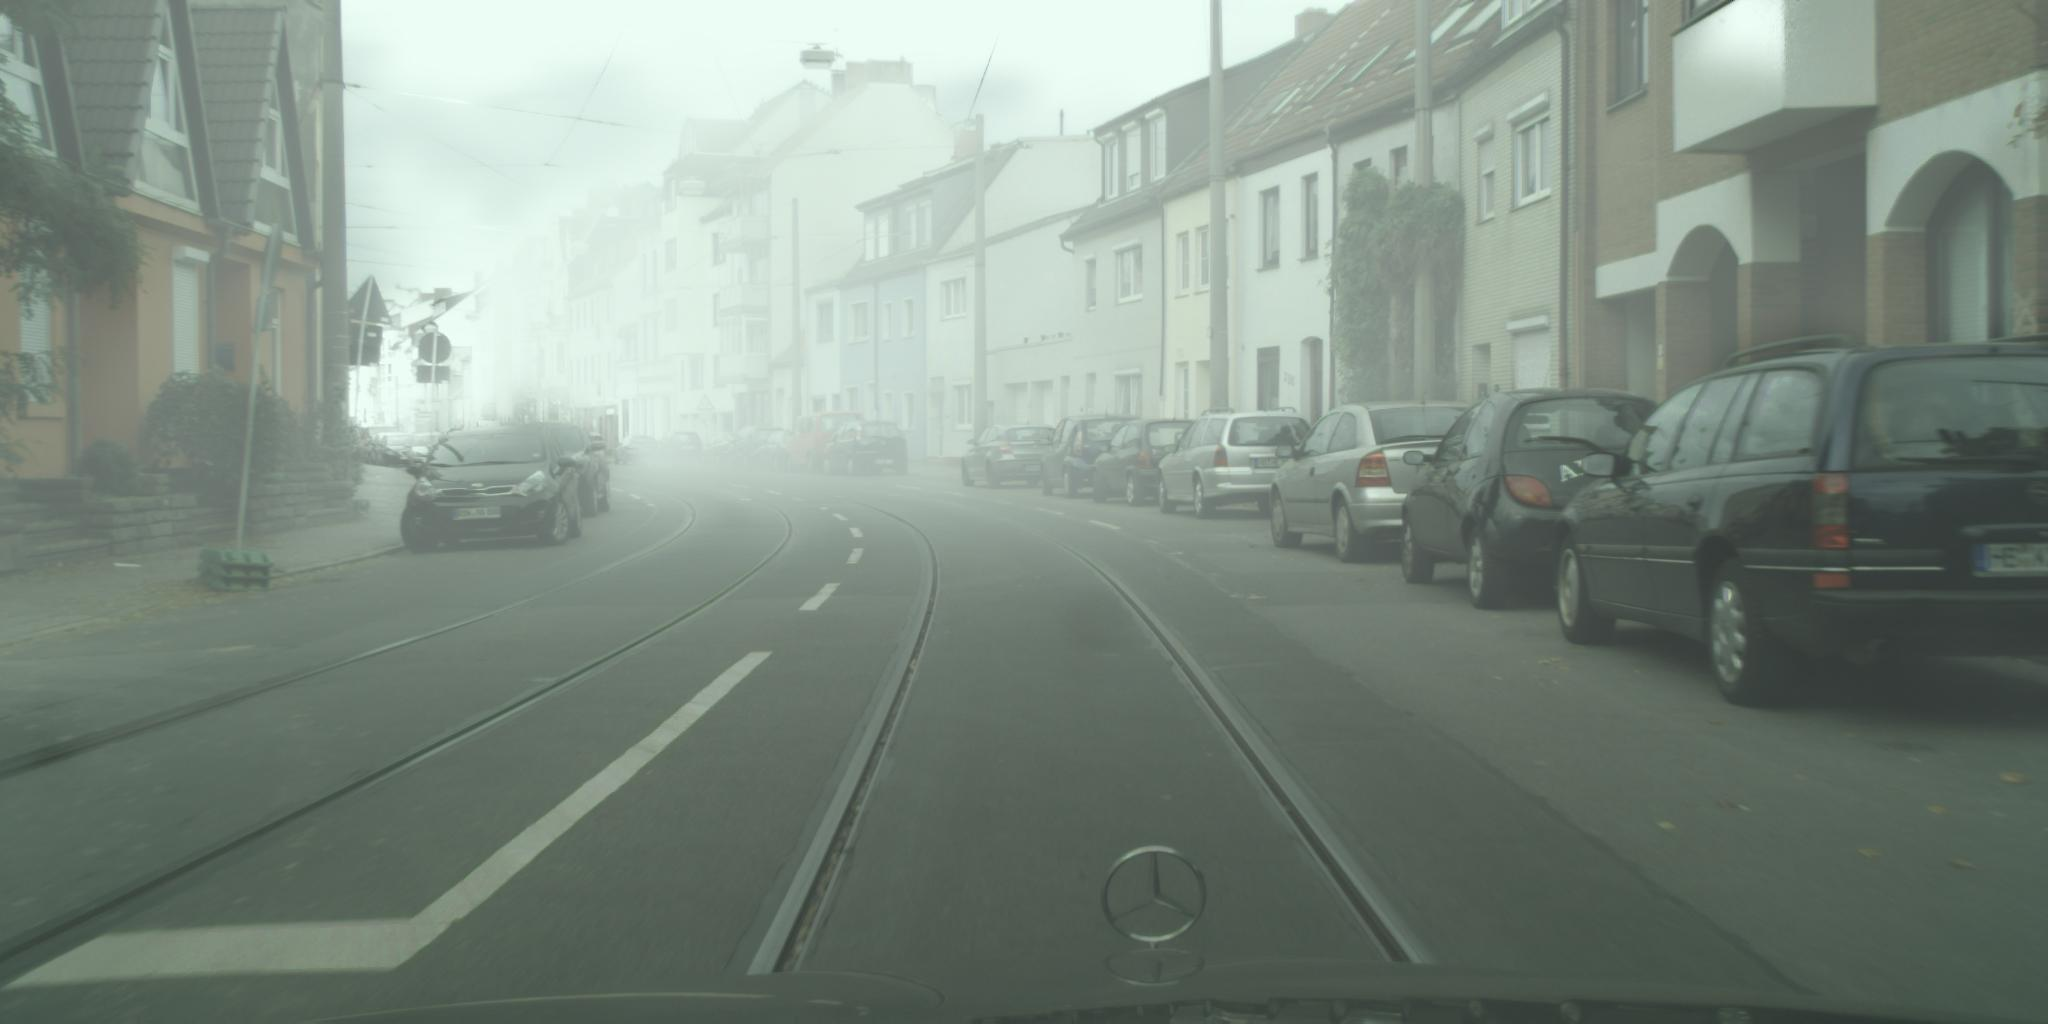car: (1550, 333, 2048, 713), (1401, 387, 1669, 613), (1271, 400, 1475, 564), (400, 428, 586, 556), (1159, 408, 1311, 520), (1091, 421, 1196, 509), (1042, 413, 1144, 502), (530, 422, 614, 520), (963, 424, 1058, 491), (786, 411, 867, 475), (823, 421, 910, 478), (728, 426, 782, 472), (654, 431, 707, 470), (754, 428, 795, 474), (406, 432, 445, 478), (701, 432, 739, 472), (615, 434, 658, 468), (588, 434, 610, 458)
